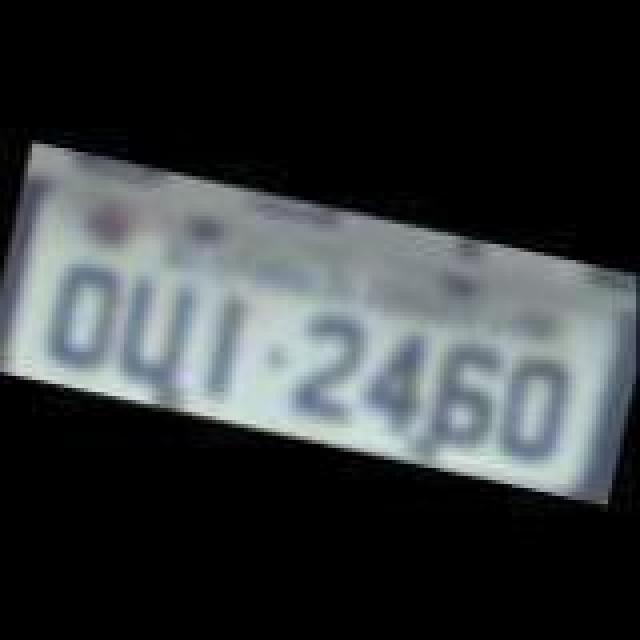1: (196, 290, 248, 402)
2: (278, 306, 374, 426)
4: (358, 322, 438, 442)
6: (418, 336, 506, 452)
O: (38, 254, 134, 378), (492, 354, 576, 470)
U: (112, 268, 204, 388)
